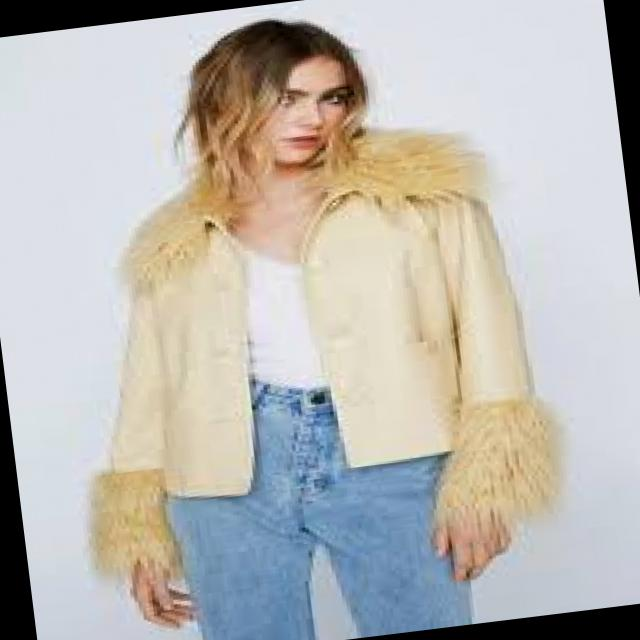Jacket: (59, 97, 640, 640)
